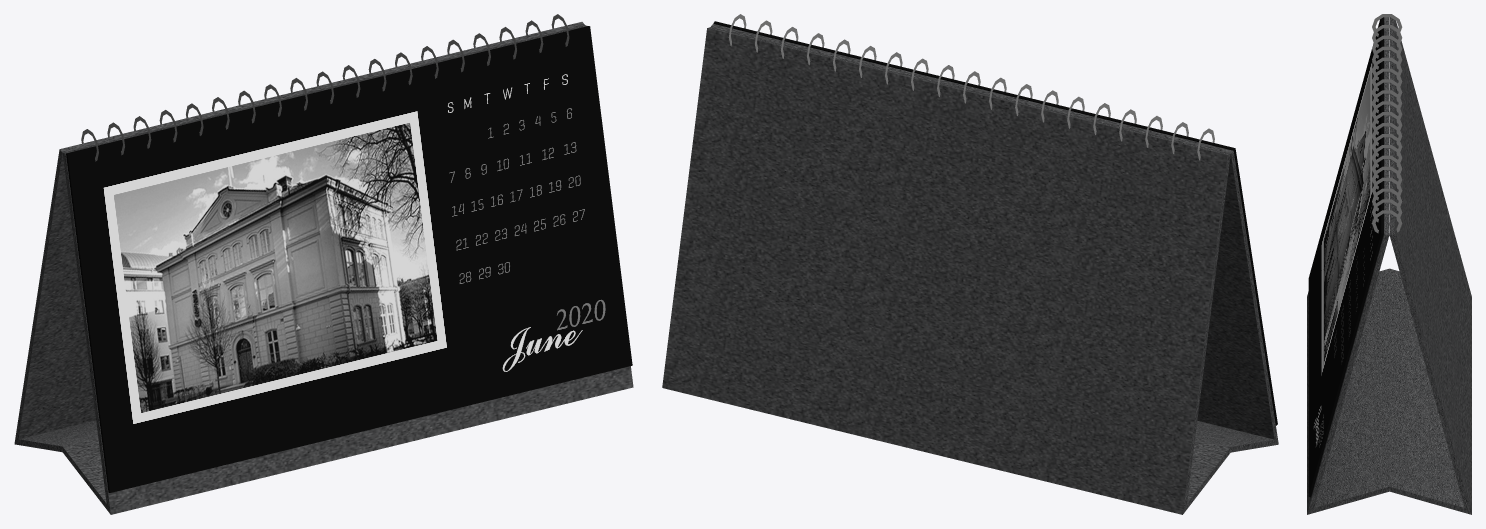
Rendered from Calendario.glb.
3 views of the same model, side by side, from view 1: azimuth 30°, elevation 25°; view 2: azimuth 150°, elevation 25°; view 3: azimuth 270°, elevation 25° (orthographic). The views are drawn at different scales.
Parts seen in each view (by area): view 1: 0ee0ec08-da5e-4ff0-a9e0-3ad34a8533fe, dd99b337-73b4-4597-ae1f-3e362abcf776; view 2: dd99b337-73b4-4597-ae1f-3e362abcf776, 0ee0ec08-da5e-4ff0-a9e0-3ad34a8533fe; view 3: dd99b337-73b4-4597-ae1f-3e362abcf776, 0ee0ec08-da5e-4ff0-a9e0-3ad34a8533fe, 03b85210-4e99-4c95-951e-cfd469dd68a9, 5df3db4d-1ac4-4e99-b58d-7ebfc5d6d2c2, 0faac284-6c2f-4060-b7ac-416f8fbb7905, 13989d1b-7030-4d9b-a9a8-365387b96a2f, 6793c545-df46-45f6-9ab3-6d2fb03bee1a, f36b3065-1a3d-44ae-b668-5a8edf96341a.
Part boxes in pixels (x1,y1,x2,y2): 0ee0ec08-da5e-4ff0-a9e0-3ad34a8533fe: (66,26,632,492); dd99b337-73b4-4597-ae1f-3e362abcf776: (14,22,633,514); dd99b337-73b4-4597-ae1f-3e362abcf776: (662,24,1278,514); 0ee0ec08-da5e-4ff0-a9e0-3ad34a8533fe: (713,21,1277,425); dd99b337-73b4-4597-ae1f-3e362abcf776: (1307,17,1471,514); 0ee0ec08-da5e-4ff0-a9e0-3ad34a8533fe: (1308,17,1383,497); 03b85210-4e99-4c95-951e-cfd469dd68a9: (1372,210,1402,235); 5df3db4d-1ac4-4e99-b58d-7ebfc5d6d2c2: (1372,199,1402,225); 0faac284-6c2f-4060-b7ac-416f8fbb7905: (1372,90,1402,115); 13989d1b-7030-4d9b-a9a8-365387b96a2f: (1372,57,1402,83); 6793c545-df46-45f6-9ab3-6d2fb03bee1a: (1372,166,1402,192); f36b3065-1a3d-44ae-b668-5a8edf96341a: (1372,177,1402,203).
Size of the model in its own units: 0.2 by 0.1256 by 0.0639.
3 materials, 2 textured.
